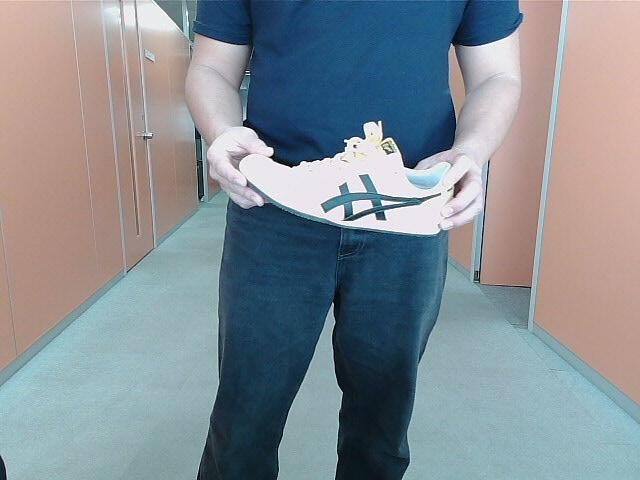Shoes: (231, 132, 455, 238)
